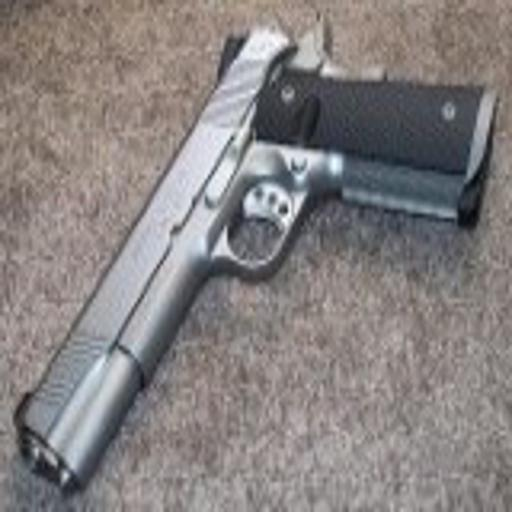Handgun: (11, 7, 498, 498)
